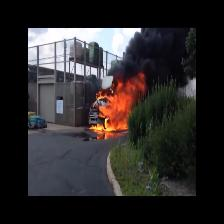fire: (101, 85, 133, 129)
smoke: (132, 33, 182, 78)
